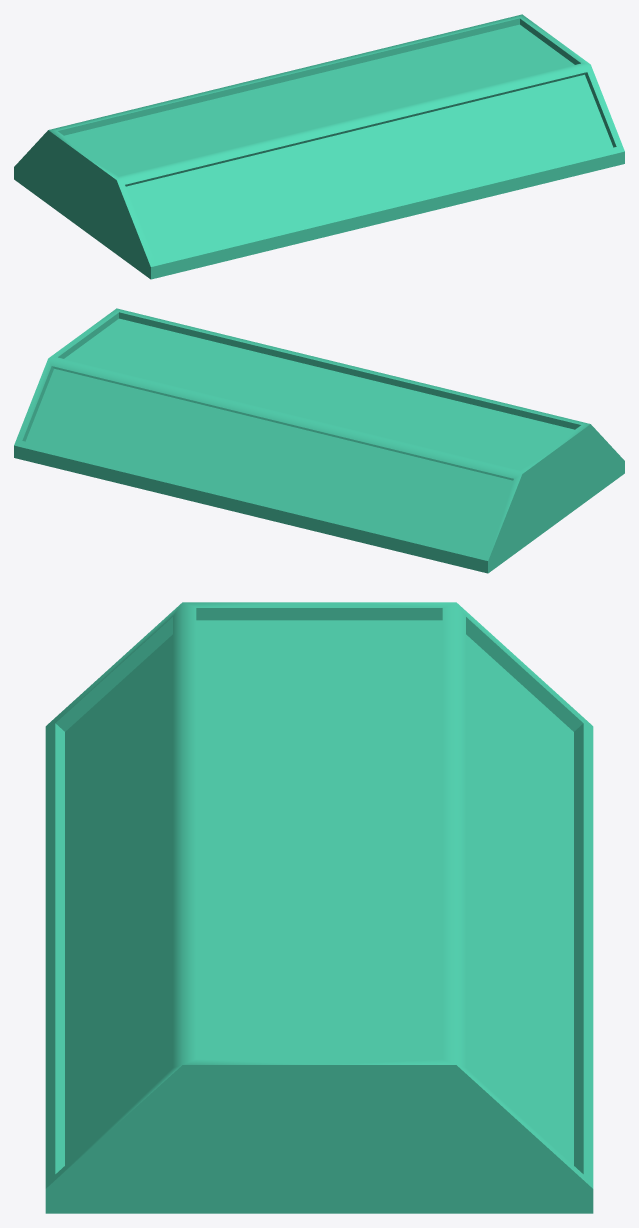
File: Floor_4x2m_C.FBX
3 renders of one model, top to bottom at view 1: azimuth 30°, elevation 25°; view 2: azimuth 150°, elevation 25°; view 3: azimuth 270°, elevation 25°, orthographic. The views are drawn at different scales.
Parts seen in each view (by area): view 1: Floor_4x2m_C; view 2: Floor_4x2m_C; view 3: Floor_4x2m_C.
Part boxes in pixels (x1,y1,x2,y2): Floor_4x2m_C: [14, 14, 624, 279]; Floor_4x2m_C: [14, 308, 624, 573]; Floor_4x2m_C: [45, 602, 593, 1213].
Bounding box in the file's own units: 400 × 60 × 200.
